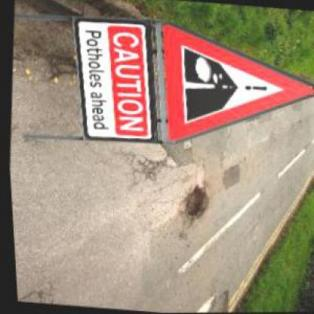Hueco: (174, 183, 210, 224)
